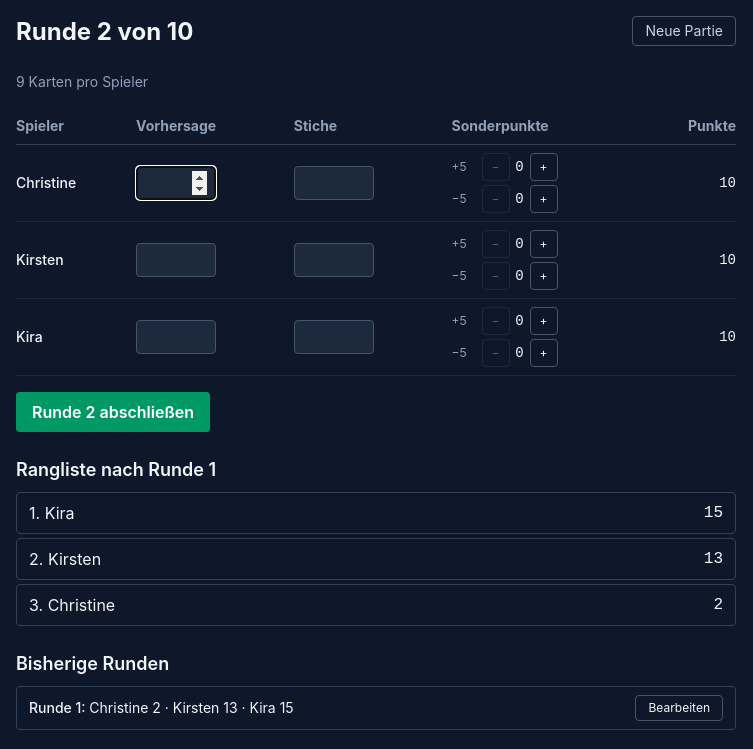
Scenario: RoundEntryScreen › special card points stepper › pre-fills the counter from a saved round when editing
Click the button "Bearbeiten" at [679, 708], box left=635, top=695, right=723, bottom=721
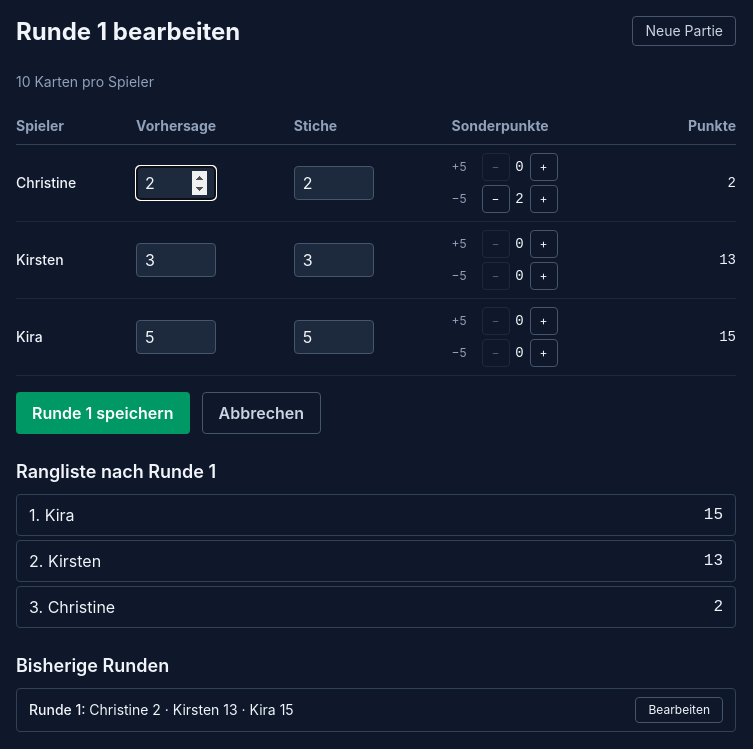
Expected: the text named "+5 Karten Christine" reads "0", left=515, top=159, right=524, bottom=175
Expected: the text named "−5 Karten Christine" reads "2", left=515, top=191, right=524, bottom=207
